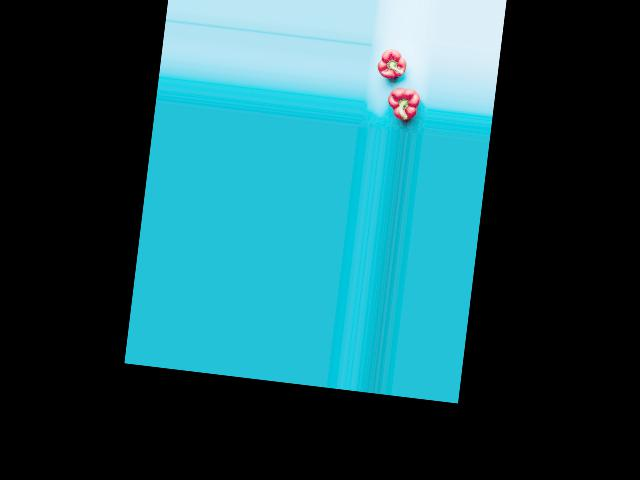bell_pepper: (381, 79, 421, 125)
